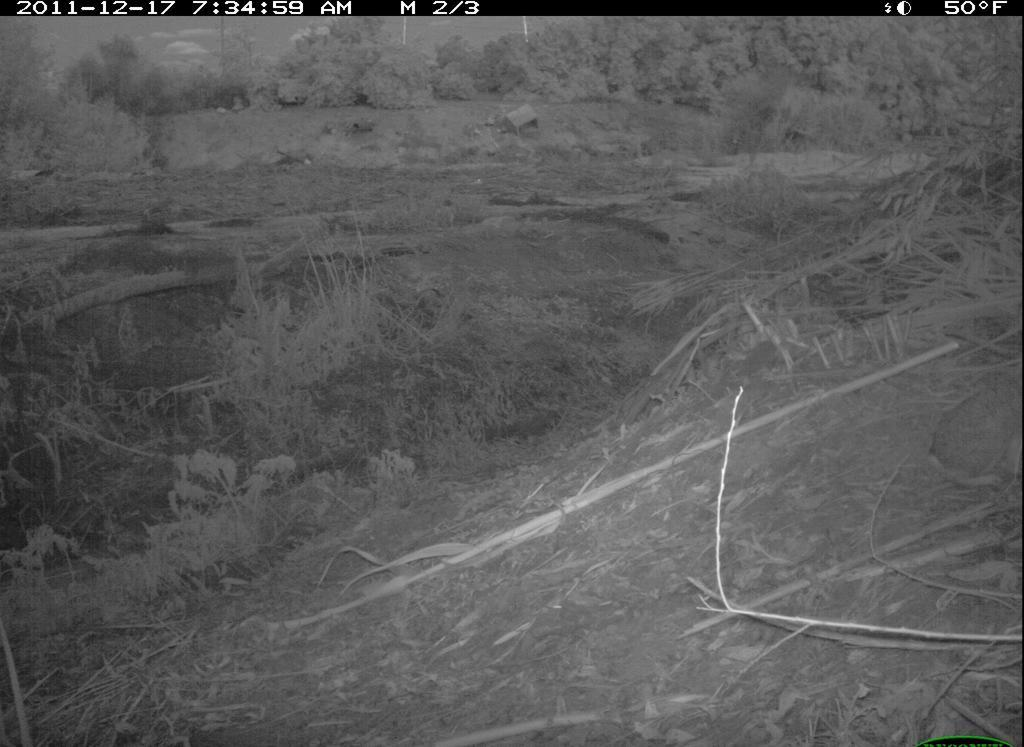rabbit: (912, 342, 1018, 492)
